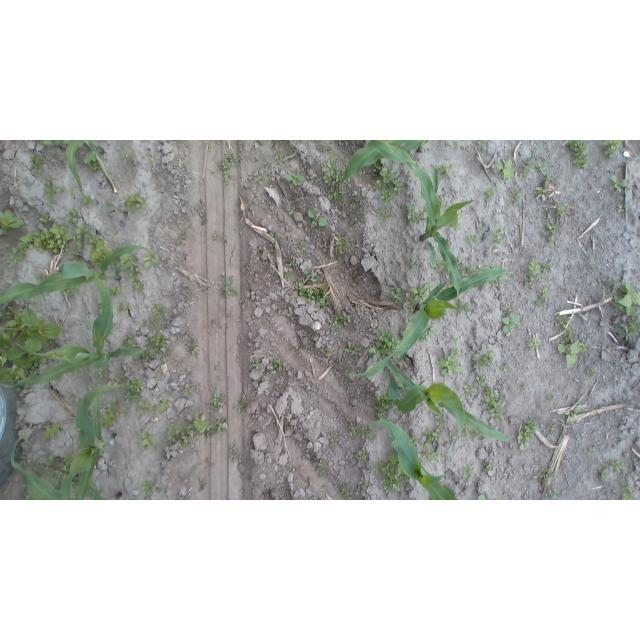Maize: (372, 141, 479, 311), (1, 267, 146, 388), (360, 269, 507, 377), (386, 361, 509, 443), (1, 244, 149, 304), (10, 434, 122, 500), (365, 420, 457, 500), (60, 385, 116, 499), (343, 140, 426, 184), (65, 140, 104, 194)
Weeds: (1, 304, 68, 383), (165, 410, 229, 448), (11, 222, 74, 259), (292, 271, 332, 309), (321, 155, 345, 205), (377, 454, 406, 495), (412, 429, 442, 464), (373, 167, 403, 201), (218, 147, 242, 188), (613, 280, 640, 316), (558, 340, 587, 369), (368, 330, 396, 358), (145, 331, 170, 362), (44, 174, 67, 206), (482, 387, 504, 418), (440, 345, 462, 376), (0, 209, 24, 237), (88, 235, 113, 261), (519, 417, 538, 450), (100, 399, 120, 430), (524, 261, 550, 284), (35, 454, 57, 481), (126, 189, 151, 212), (568, 141, 589, 168), (541, 220, 559, 248), (75, 222, 90, 254), (503, 308, 520, 336), (541, 470, 558, 498), (616, 321, 640, 340), (220, 276, 240, 298), (408, 285, 428, 307), (495, 158, 515, 180), (472, 351, 495, 370), (130, 263, 145, 292), (307, 210, 329, 229), (375, 395, 391, 419), (349, 423, 376, 436), (212, 393, 228, 414), (406, 204, 424, 222), (609, 174, 627, 192), (603, 140, 621, 158), (326, 431, 341, 452), (142, 429, 157, 449), (284, 173, 305, 187), (150, 304, 164, 325), (334, 311, 351, 328), (60, 451, 72, 474), (65, 210, 80, 228), (268, 357, 283, 375), (390, 287, 404, 306), (523, 154, 534, 178), (536, 289, 551, 306), (335, 483, 350, 500), (32, 155, 45, 174), (142, 251, 158, 266), (126, 378, 143, 392), (185, 339, 199, 356), (622, 482, 635, 500), (336, 236, 351, 251), (556, 315, 572, 328), (121, 253, 139, 264), (120, 301, 134, 315), (142, 481, 155, 496), (45, 425, 60, 438), (462, 466, 475, 481), (508, 183, 524, 195), (267, 140, 288, 149), (439, 164, 451, 179), (238, 398, 250, 413), (563, 407, 581, 417), (408, 259, 425, 269), (563, 329, 576, 342), (434, 413, 446, 427), (160, 398, 170, 414), (124, 391, 136, 404), (120, 406, 132, 419), (139, 398, 149, 413), (230, 441, 238, 459), (110, 285, 123, 296), (486, 461, 499, 472), (492, 234, 505, 245), (486, 185, 497, 197), (253, 358, 264, 369), (529, 339, 540, 350), (536, 164, 547, 175), (346, 344, 356, 356), (99, 367, 108, 380), (350, 196, 359, 209), (586, 365, 596, 376), (477, 376, 488, 386), (358, 448, 367, 460), (612, 461, 624, 470), (20, 454, 28, 467), (546, 206, 554, 219), (42, 141, 62, 146), (126, 149, 136, 159), (439, 261, 449, 271), (275, 153, 284, 164), (600, 468, 609, 479), (464, 384, 473, 395), (39, 215, 51, 223), (360, 476, 368, 488), (155, 486, 167, 494), (535, 187, 548, 194), (106, 203, 116, 212), (81, 196, 91, 205), (383, 209, 392, 219), (609, 274, 617, 285), (547, 424, 556, 433), (586, 448, 595, 457), (89, 163, 99, 171), (315, 144, 325, 152), (284, 273, 292, 283), (499, 365, 510, 372), (345, 364, 354, 372), (466, 265, 474, 274), (557, 204, 565, 213), (476, 493, 486, 500), (514, 195, 521, 205), (288, 209, 296, 217), (470, 234, 478, 242), (258, 176, 265, 185), (546, 395, 555, 402), (452, 141, 460, 148), (319, 461, 327, 468), (486, 262, 494, 269), (327, 349, 334, 357), (619, 204, 626, 212), (588, 260, 595, 267), (297, 245, 305, 251), (68, 188, 74, 195), (186, 388, 193, 393), (478, 141, 489, 144), (219, 276, 225, 281), (496, 228, 501, 233), (149, 158, 153, 164), (522, 384, 526, 390), (274, 235, 278, 240)
